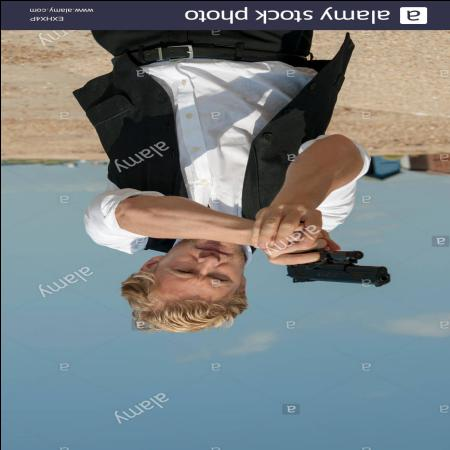Pistol: (281, 249, 394, 290)
